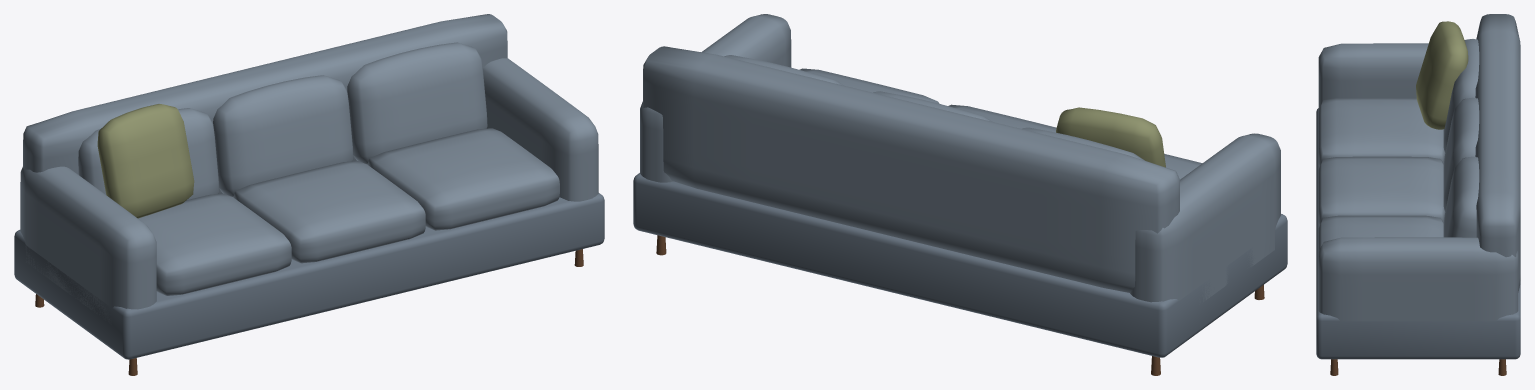
File: sofa_3.glb
3 views of the same model, side by side, from view 1: azimuth 30°, elevation 25°; view 2: azimuth 150°, elevation 25°; view 3: azimuth 270°, elevation 25° (orthographic). The views are drawn at different scales.
Parts seen in each view (by area): view 1: box, soft.002, soft, soft.006, soft.008, soft.007, soft.005, soft.004, soft.001, soft.009, soft.003; view 2: soft.002, box, soft, soft.001, soft.009, soft.008, soft.006, soft.003, soft.007, soft.005; view 3: soft.001, soft.002, box, soft.006, soft.004, soft, soft.009, soft.008, soft.007, soft.005, soft.003.
Part boxes in pixels (x1=…): box: x1=14, y1=193, x2=604, y2=359; soft.002: x1=23, y1=14, x2=507, y2=193; soft: x1=20, y1=166, x2=156, y2=324; soft.006: x1=233, y1=161, x2=425, y2=263; soft.008: x1=367, y1=128, x2=559, y2=230; soft.007: x1=347, y1=42, x2=487, y2=164; soft.005: x1=213, y1=75, x2=353, y2=197; soft.004: x1=138, y1=193, x2=291, y2=295; soft.001: x1=483, y1=58, x2=598, y2=201; soft.009: x1=97, y1=104, x2=194, y2=218; soft.003: x1=78, y1=108, x2=219, y2=199; soft.002: x1=643, y1=46, x2=1179, y2=292; box: x1=633, y1=173, x2=1287, y2=357; soft: x1=1130, y1=133, x2=1280, y2=304; soft.001: x1=640, y1=14, x2=791, y2=182; soft.009: x1=1056, y1=107, x2=1165, y2=167; soft.008: x1=799, y1=68, x2=939, y2=103; soft.006: x1=948, y1=104, x2=1056, y2=132; soft.003: x1=1022, y1=127, x2=1144, y2=160; soft.007: x1=724, y1=55, x2=843, y2=85; soft.005: x1=873, y1=91, x2=991, y2=121; soft.001: x1=1318, y1=237, x2=1518, y2=321; soft.002: x1=1475, y1=14, x2=1520, y2=292; box: x1=1316, y1=108, x2=1520, y2=359; soft.006: x1=1318, y1=156, x2=1445, y2=225; soft.004: x1=1318, y1=98, x2=1445, y2=166; soft: x1=1318, y1=43, x2=1428, y2=109; soft.009: x1=1416, y1=21, x2=1468, y2=129; soft.008: x1=1318, y1=215, x2=1443, y2=250; soft.007: x1=1443, y1=156, x2=1479, y2=237; soft.005: x1=1443, y1=97, x2=1479, y2=211; soft.003: x1=1443, y1=39, x2=1479, y2=152.
Bounding box in the file's own units: 220 × 86.47 × 90.
